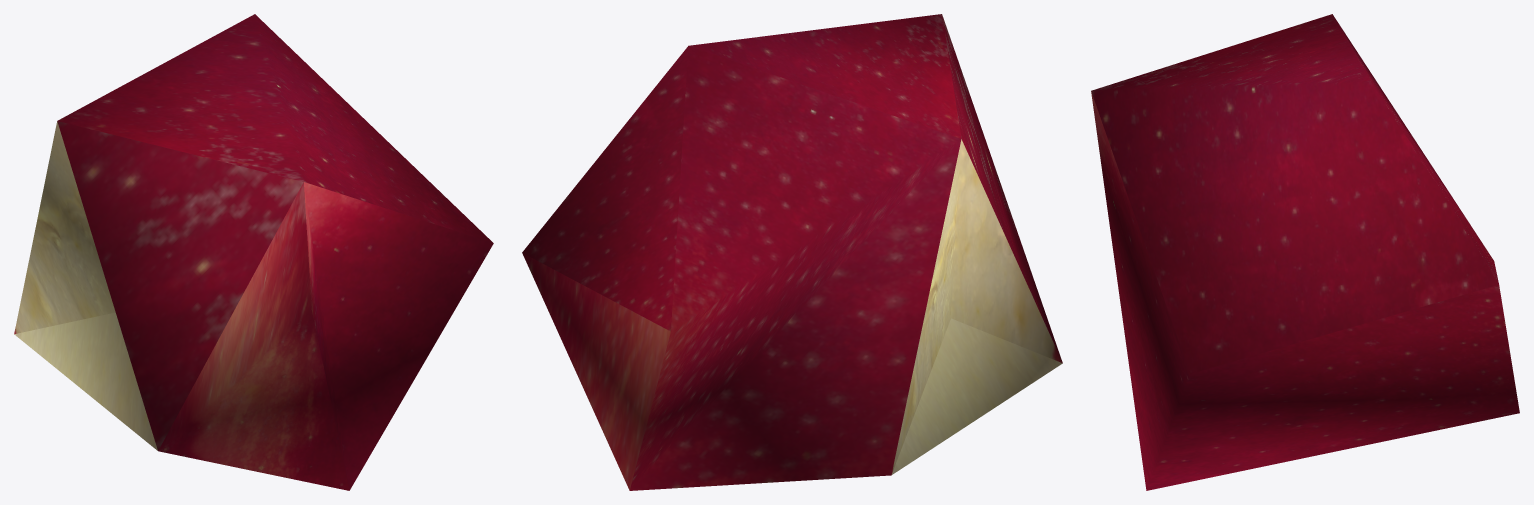
Rendered from Apple_2.obj.
3 views of the same model, side by side, from view 1: azimuth 30°, elevation 25°; view 2: azimuth 150°, elevation 25°; view 3: azimuth 270°, elevation 25° (orthographic). The views are drawn at different scales.
Visible parts, largest first — view 1: tgzpdhlpa_LOD0_TIER2_000; view 2: tgzpdhlpa_LOD0_TIER2_000; view 3: tgzpdhlpa_LOD0_TIER2_000.
Boxes of the visible parts, box(x1,y1,x2,y2) form: tgzpdhlpa_LOD0_TIER2_000: box(14, 14, 493, 490); tgzpdhlpa_LOD0_TIER2_000: box(522, 14, 1062, 490); tgzpdhlpa_LOD0_TIER2_000: box(1091, 14, 1519, 490).
Size of the model in its own units: 0.7378 by 0.756 by 0.7074.
Materials: 1 (1 with a texture image).
